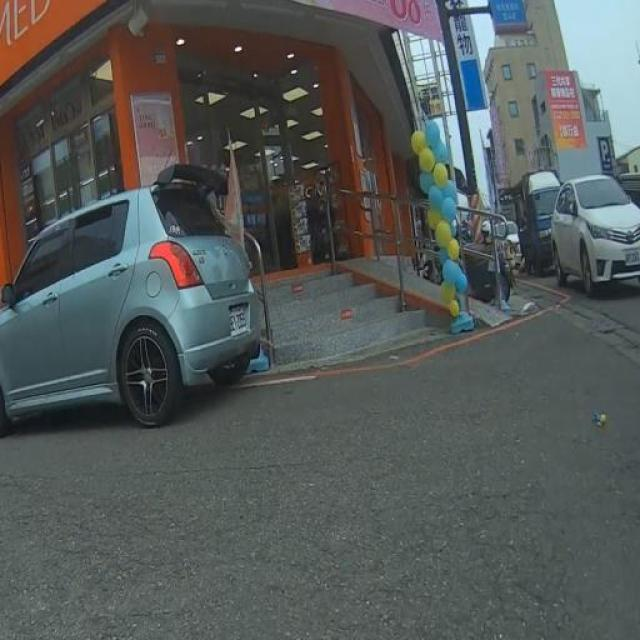illegalparking: (0, 165, 259, 435), (551, 175, 639, 296), (514, 170, 560, 271)
